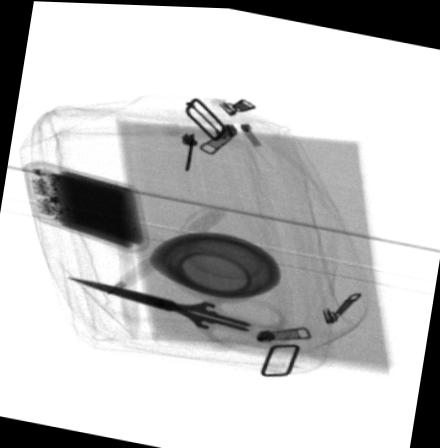Powerbank: (23, 159, 149, 253)
Scissors: (60, 272, 288, 355)
